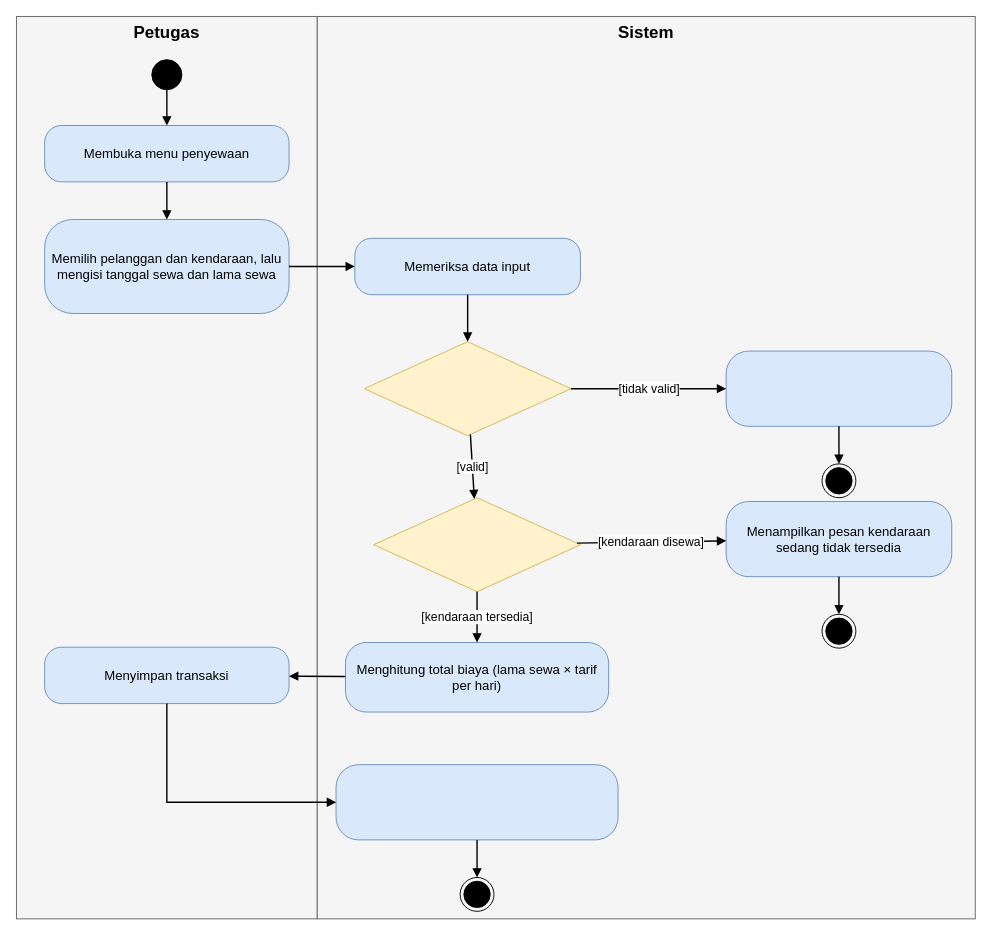
The diagram is 992 pixels wide and 935 high, and some of its shapes have lost their labels. Each missing label, with the box of its shape:
Kolom terisi dan lama sewa valid?: (363, 341, 571, 436)
Menampilkan pesan kesalahan dan cara memperbaikinya: (725, 350, 952, 426)
Menyimpan data penyewaan dan mengubah status kendaraan menjadi disewa: (335, 764, 618, 840)
Status kendaraan?: (373, 497, 580, 592)
